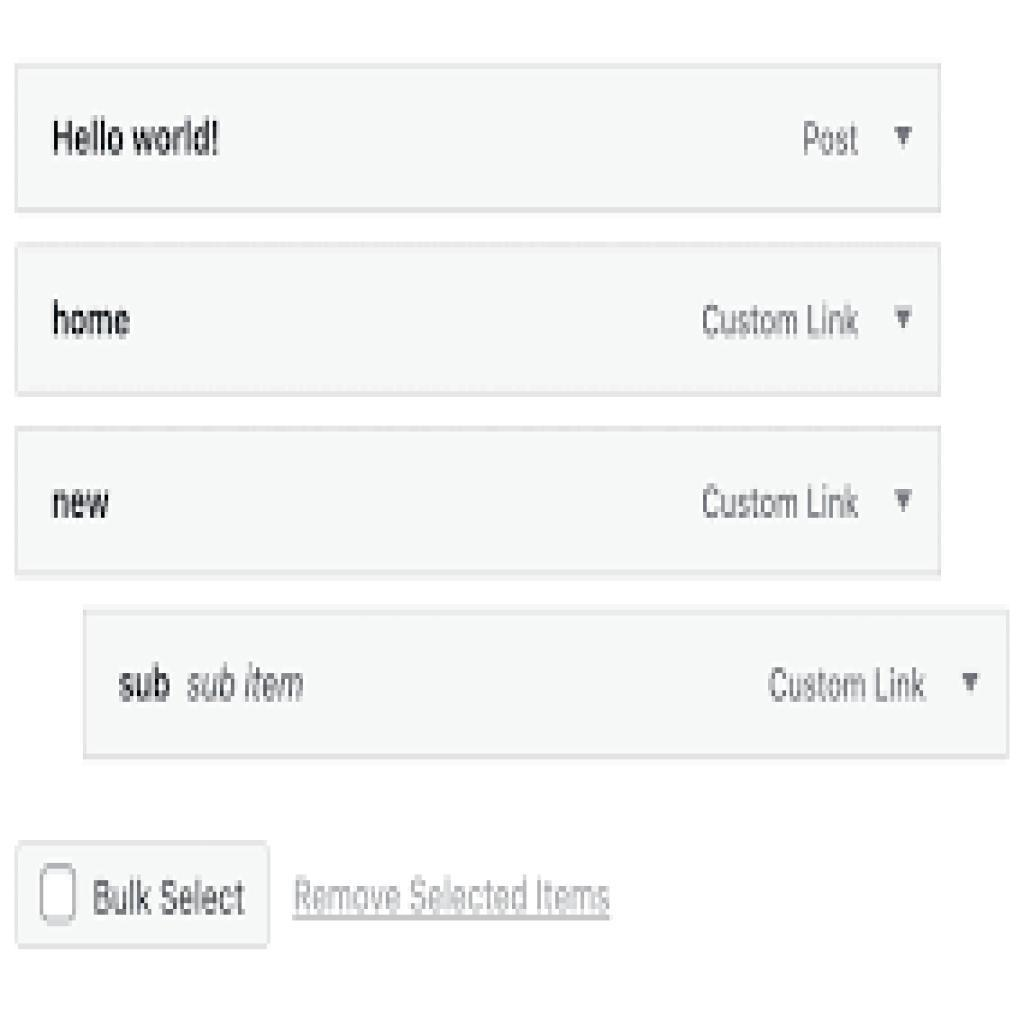button: (15, 844, 266, 950)
checkbox: (39, 861, 79, 925)
dropdown: (14, 240, 940, 399), (79, 610, 1018, 759), (11, 427, 942, 575), (13, 65, 943, 213)
